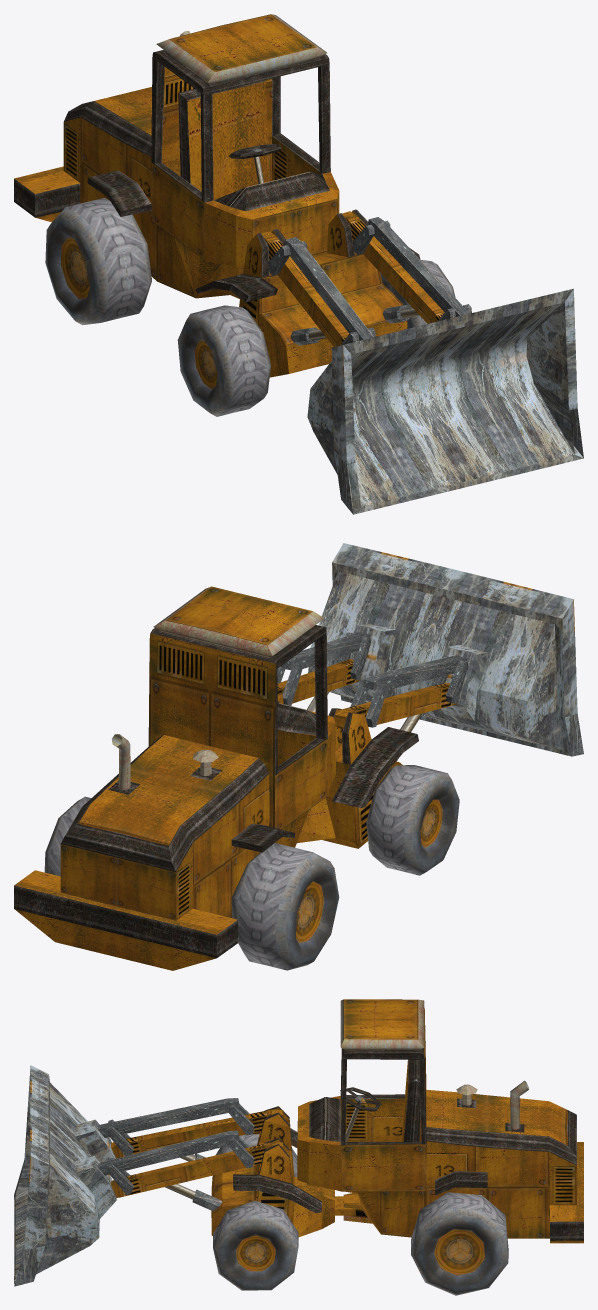
File: Model_Misc_Bulldozer.fbx
3 renders of one model, top to bottom at view 1: azimuth 30°, elevation 25°; view 2: azimuth 150°, elevation 25°; view 3: azimuth 270°, elevation 25°, orthographic. The views are drawn at different scales.
Visible parts, largest first — view 1: Car_Body, Shovel, Car_Front, RB_Wheel, RF_Wheel, LF_Wheel; view 2: Car_Body, Shovel, Car_Front, RB_Wheel, RF_Wheel, LB_Wheel; view 3: Car_Body, Car_Front, Shovel, LB_Wheel, LF_Wheel, RF_Wheel.
Boxes of the visible parts, bbox=[...] form: Car_Body: bbox=[14, 14, 339, 298]; Shovel: bbox=[307, 288, 583, 514]; Car_Front: bbox=[195, 209, 471, 377]; RB_Wheel: bbox=[45, 198, 151, 325]; RF_Wheel: bbox=[177, 305, 271, 416]; LF_Wheel: bbox=[380, 260, 455, 328]; Car_Body: bbox=[14, 586, 335, 970]; Shovel: bbox=[308, 543, 583, 756]; Car_Front: bbox=[277, 632, 468, 848]; RB_Wheel: bbox=[231, 843, 339, 970]; RF_Wheel: bbox=[366, 765, 459, 875]; LB_Wheel: bbox=[44, 796, 90, 876]; Car_Body: bbox=[297, 999, 583, 1243]; Car_Front: bbox=[98, 1098, 355, 1236]; Shovel: bbox=[14, 1065, 116, 1286]; LB_Wheel: bbox=[411, 1192, 508, 1295]; LF_Wheel: bbox=[213, 1200, 298, 1290]; RF_Wheel: bbox=[216, 1134, 297, 1177].
Size of the model in its own units: 330 by 365 by 810.
